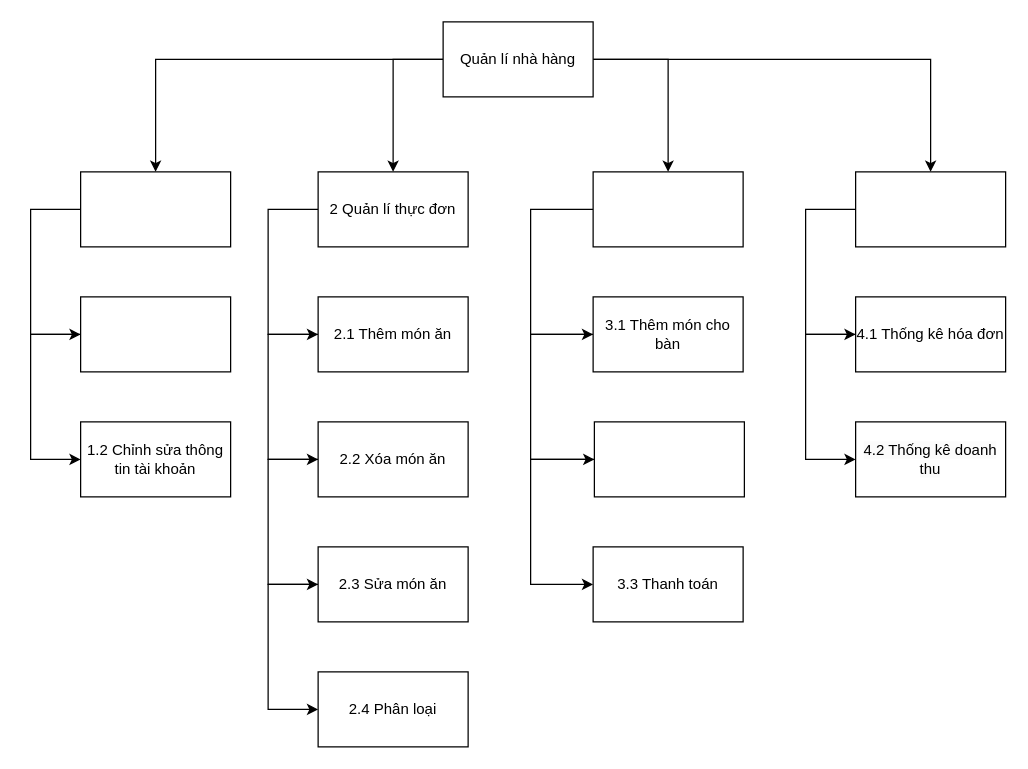
This 1028x769 diagram has some shape labels left out. Here are the shapes that lost their labels. From the top down, the centre of each, then its label:
the point at 155,209: 1 Quản lí tài khoản
the point at 667,209: 3 Quản lí bàn ăn
the point at 930,209: 4 Thống kê
the point at 155,334: 1.1 Đăng nhập
the point at 668,459: 3.2 Chuyển bàn
